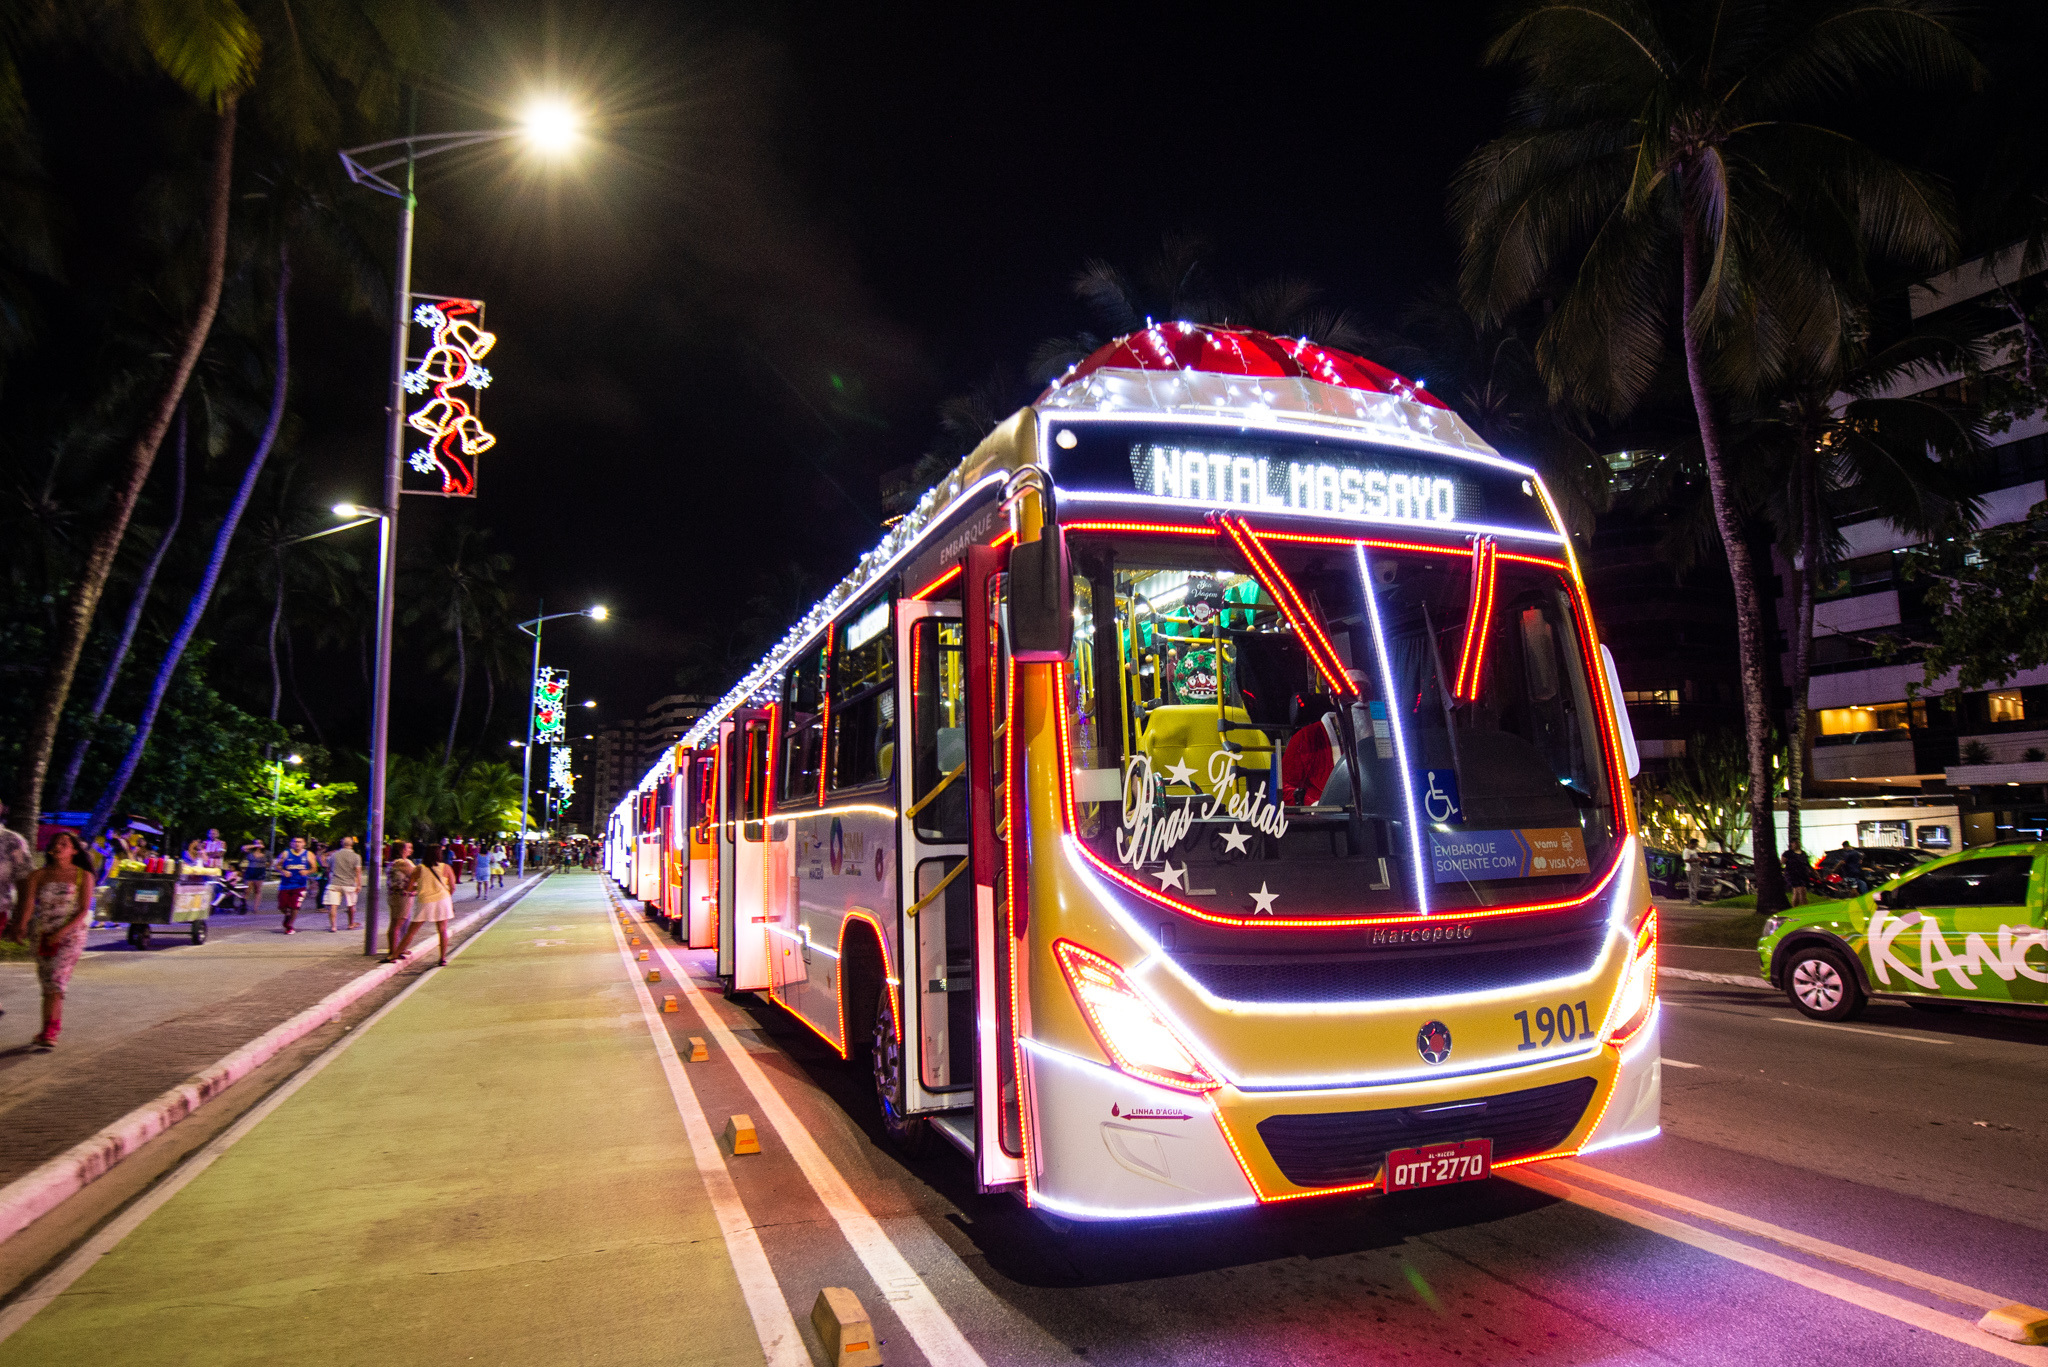bus: (597, 308, 1681, 1275)
car: (1749, 824, 2048, 1033)
car_plate: (1380, 1134, 1493, 1196)
